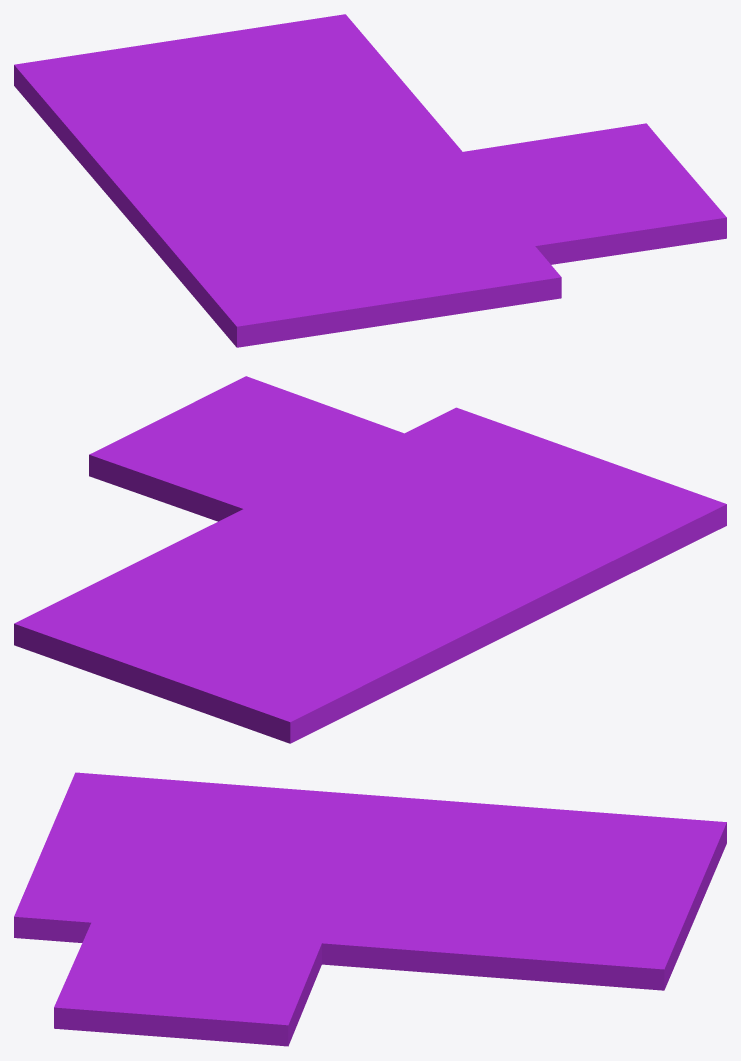
File: edeka.dae
The picture shows the model from 3 angles, top to bottom: view 1: azimuth 30°, elevation 25°; view 2: azimuth 150°, elevation 25°; view 3: azimuth 270°, elevation 25°; orthographic projection. The views are drawn at different scales.
Parts seen in each view (by area): view 1: Object (×2); view 2: Object (×2); view 3: Object (×2).
Part boxes in pixels (left/top/right/bottom): Object (×2): left=14, top=14, right=726, bottom=347; Object (×2): left=14, top=376, right=726, bottom=743; Object (×2): left=14, top=772, right=726, bottom=1046.
Size of the model in its own units: 15.36 by 0.6 by 18.31.
